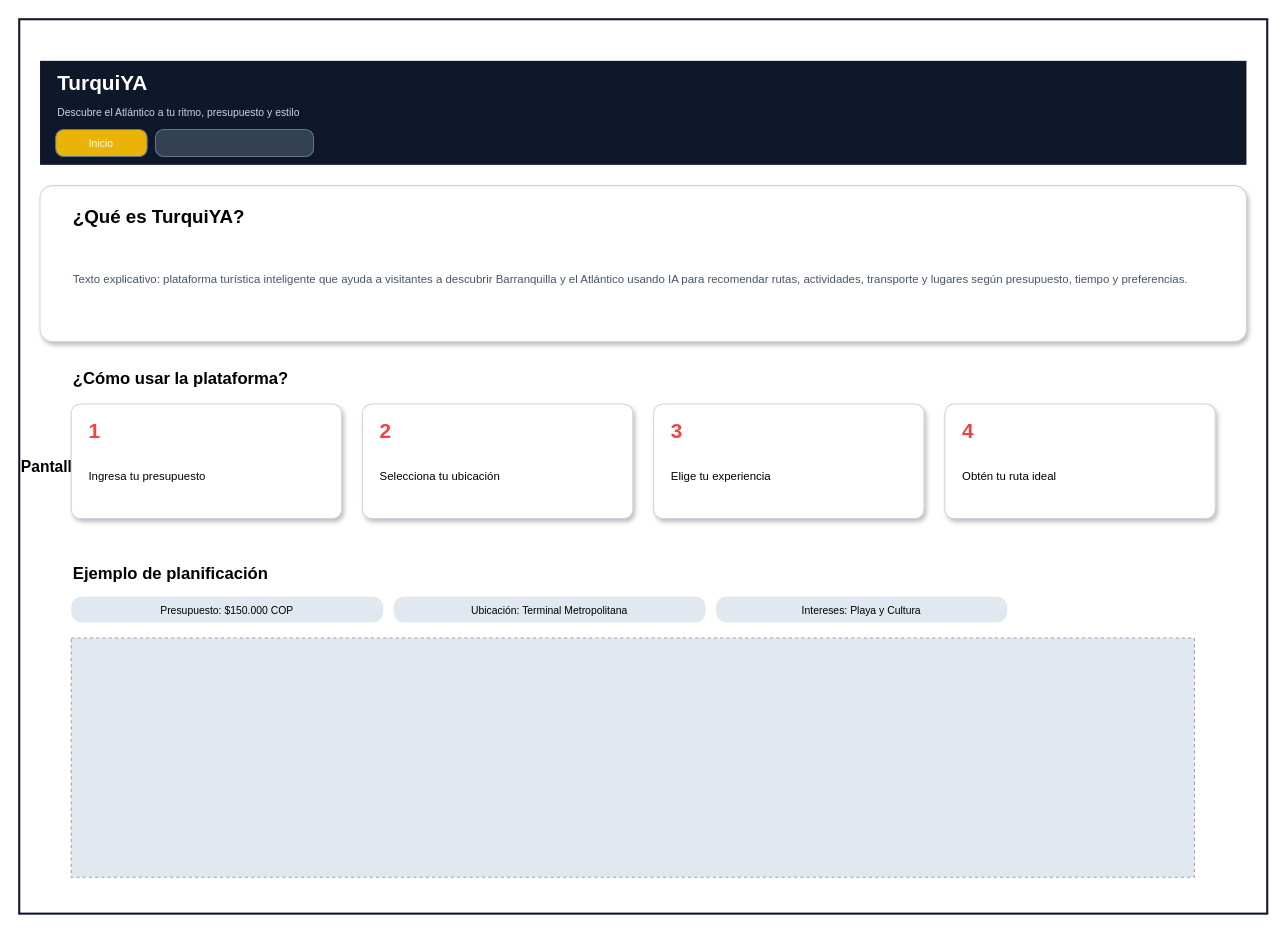
The diagram is 1285 pixels wide and 932 high, and some of its shapes have lost their labels. The centre of each missing label's shape, as x and y in pixels:
[ img: ejemplo de presupuesto (captura demostrativa) ]: the point at 632,757
Iniciar sesión: the point at 234,142
